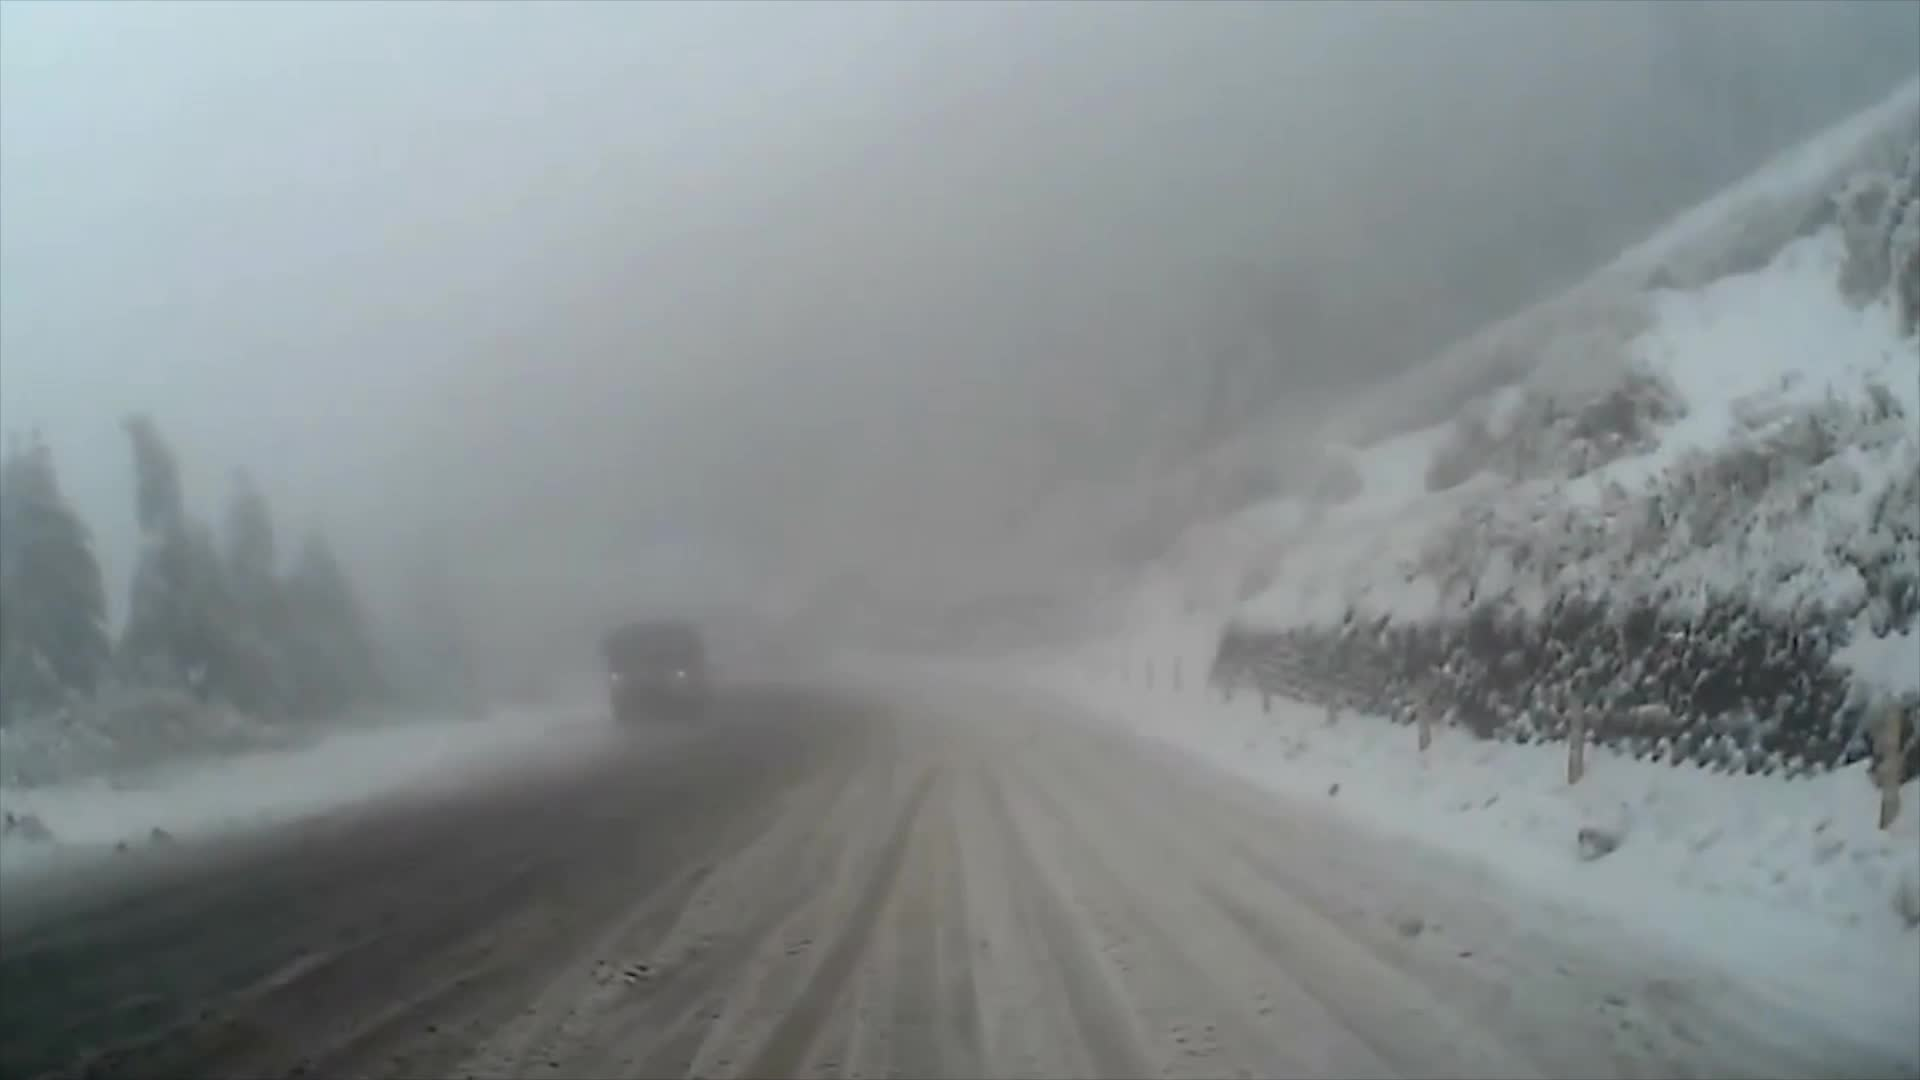vehicle: (596, 626, 707, 724)
